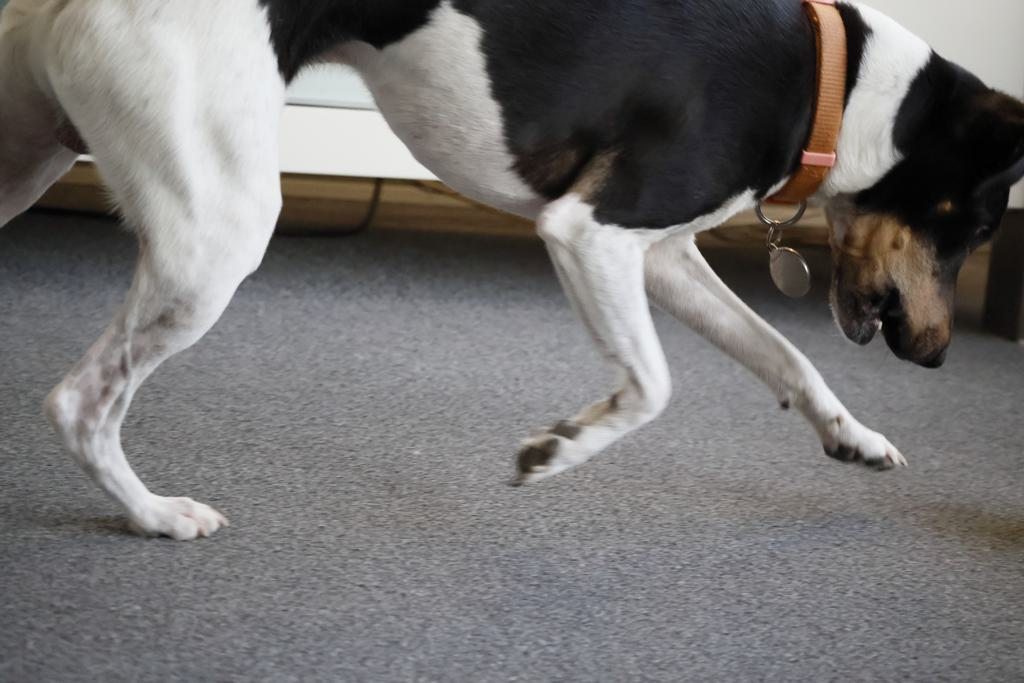Dog: (0, 0, 1024, 548)
